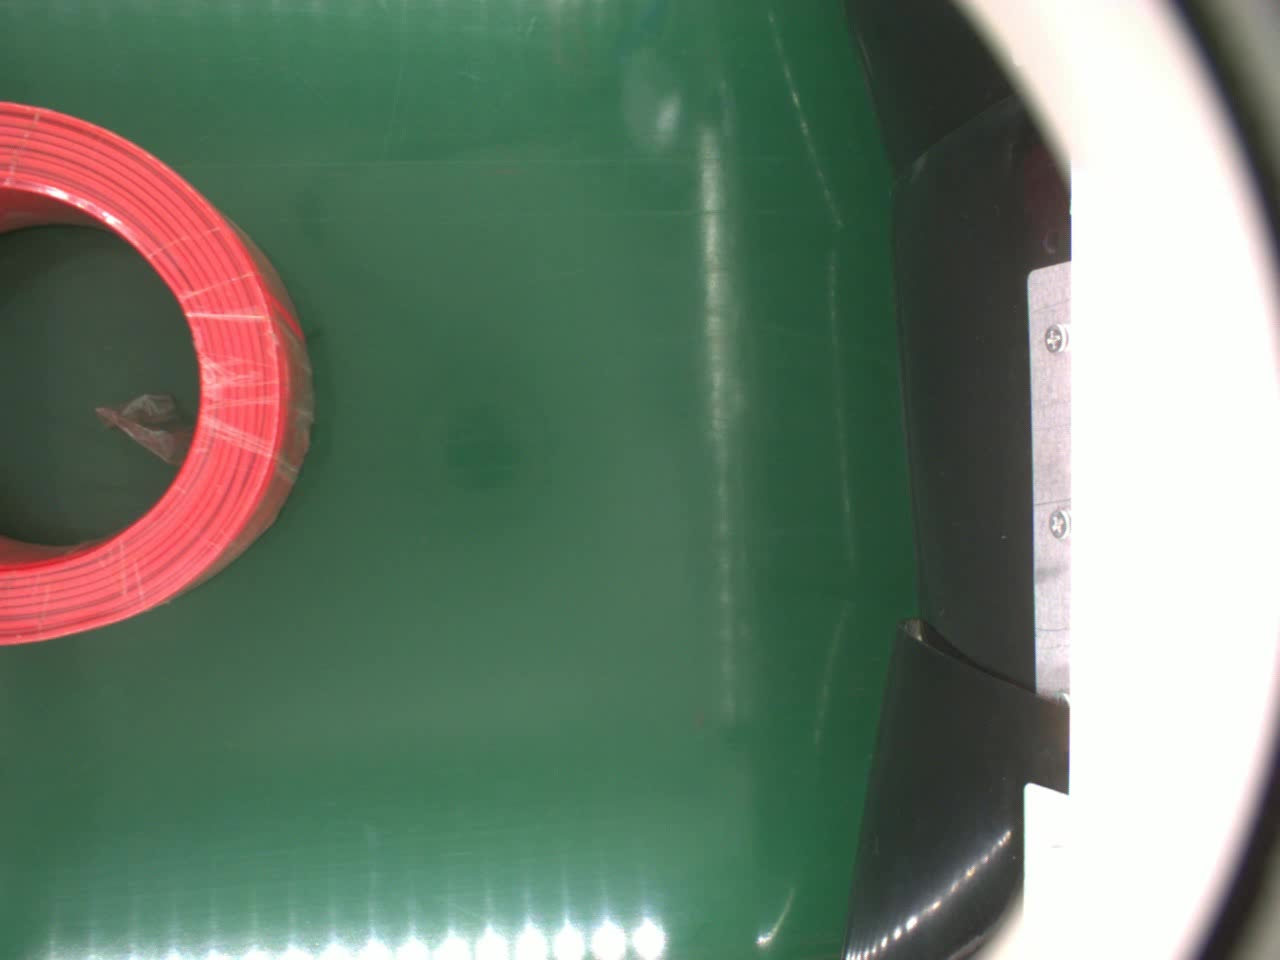red: (0, 97, 317, 649)
